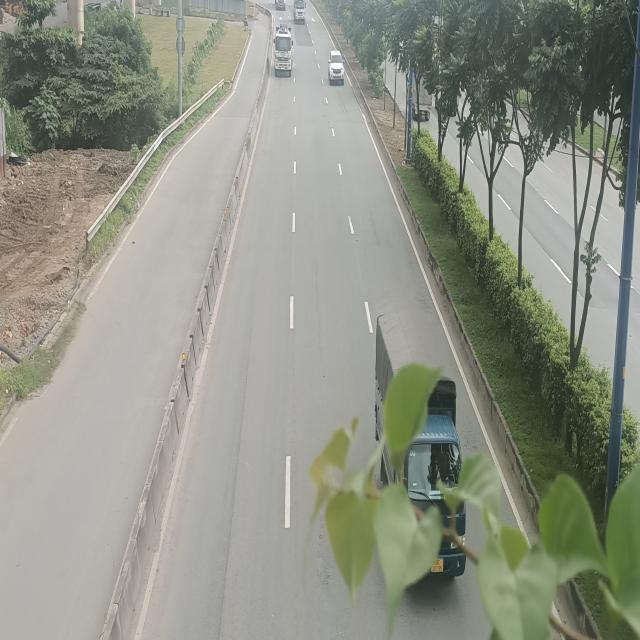car: (329, 50, 346, 86)
truck: (273, 26, 293, 76)
